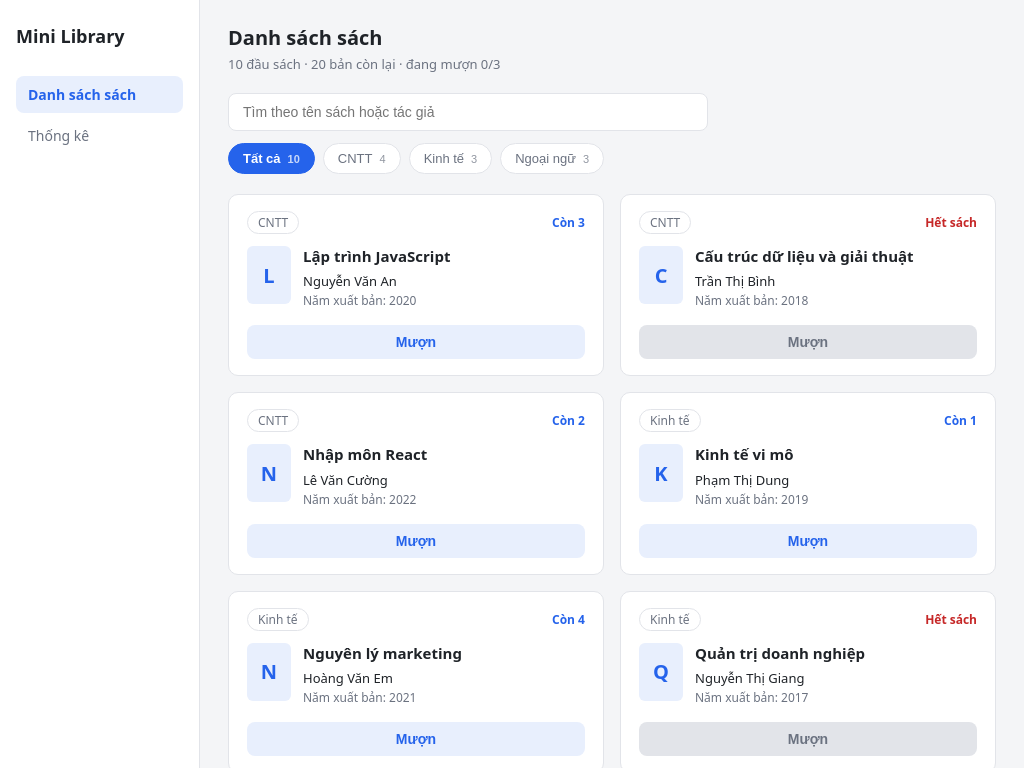
Scenario: tìm kiếm được khi gõ không dấu
Expected: the heading "Lập trình JavaScript" is shown, [303,246,450,266]
Type "lap trinh" into the field with placeholder "Tìm theo tên sách hoặc tác giả" at (468, 112), box [228,93,708,131]
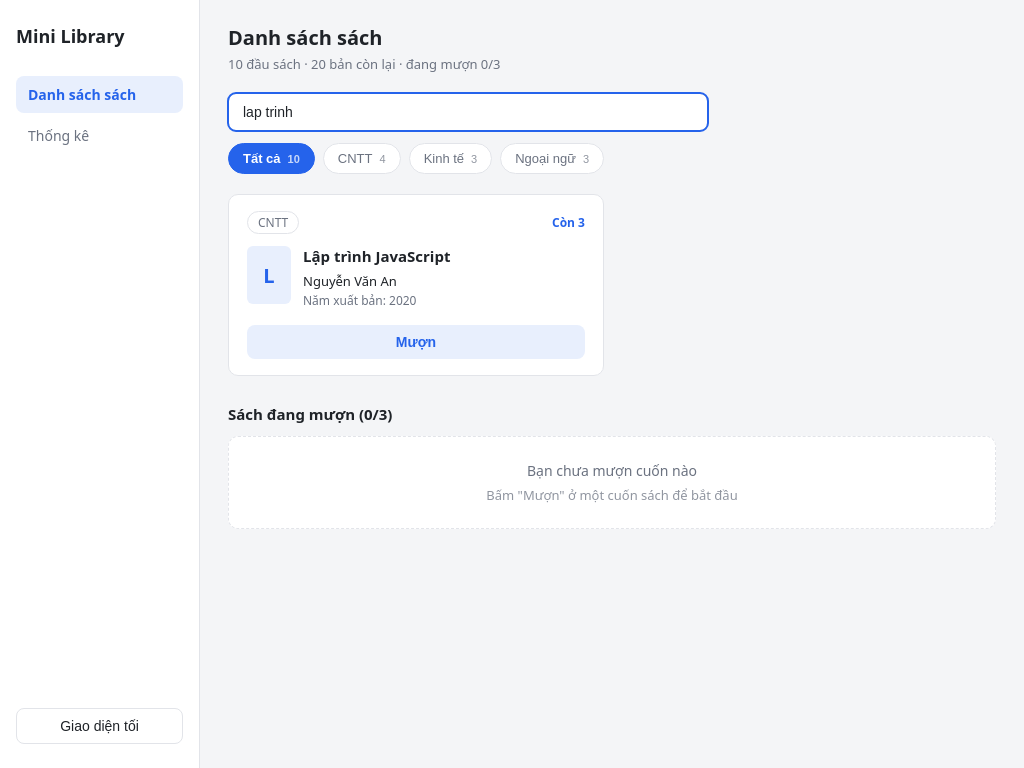
Expected: the heading "Lập trình JavaScript" is shown, [303,246,450,266]
Now the heading "Nhập môn React" is gone
